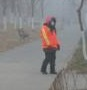person: (37, 14, 61, 76)
